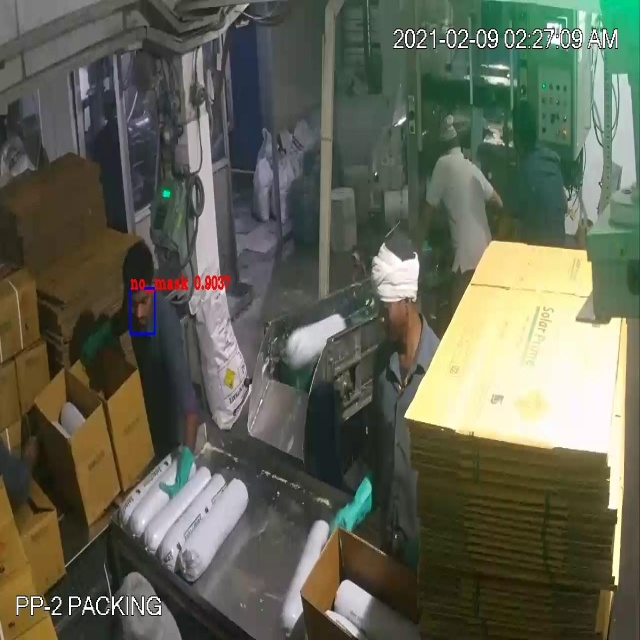Guantes: (324, 450, 383, 554), (156, 437, 197, 510), (75, 317, 115, 371)
Sin_guantes: (405, 193, 436, 264)
